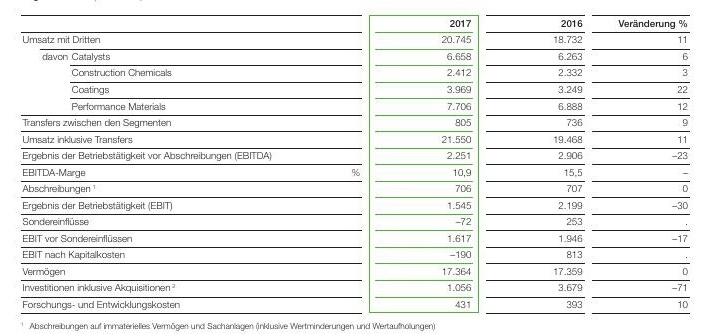table: (0, 0, 711, 334)
